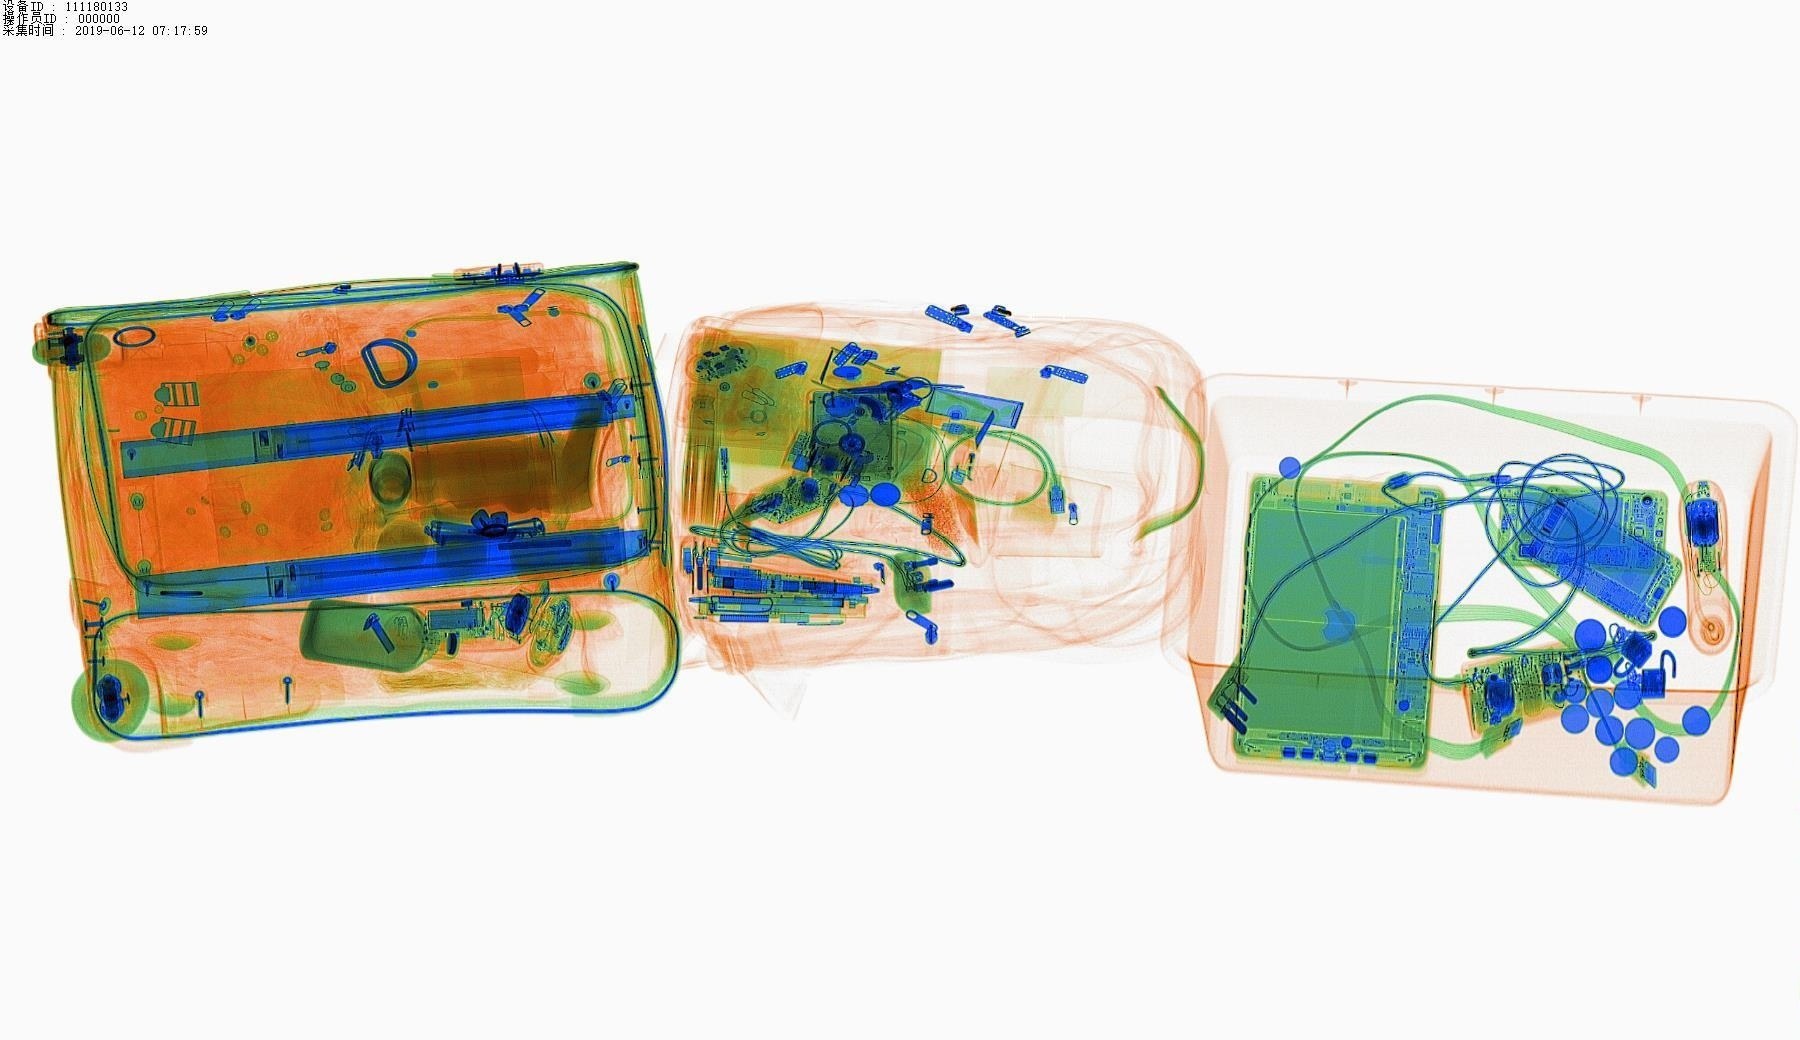NonmetallicFire: (931, 414, 1002, 490)
